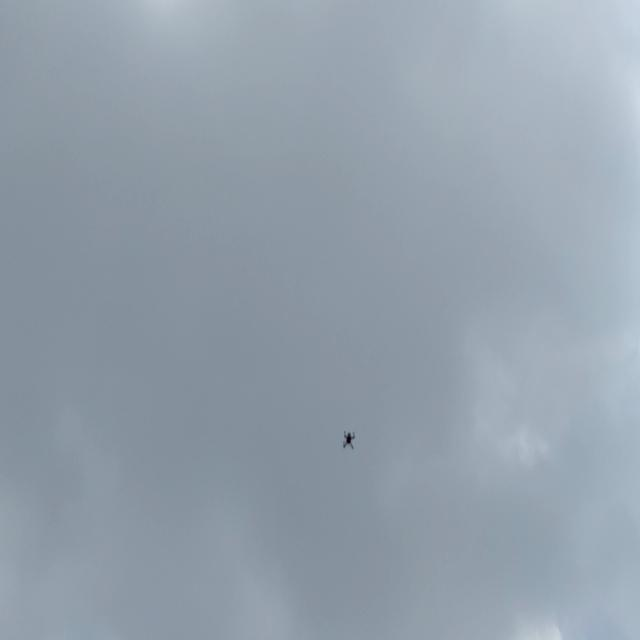drone: (338, 429, 360, 450)
